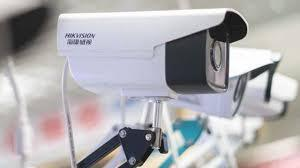tutu: (52, 3, 253, 105)
